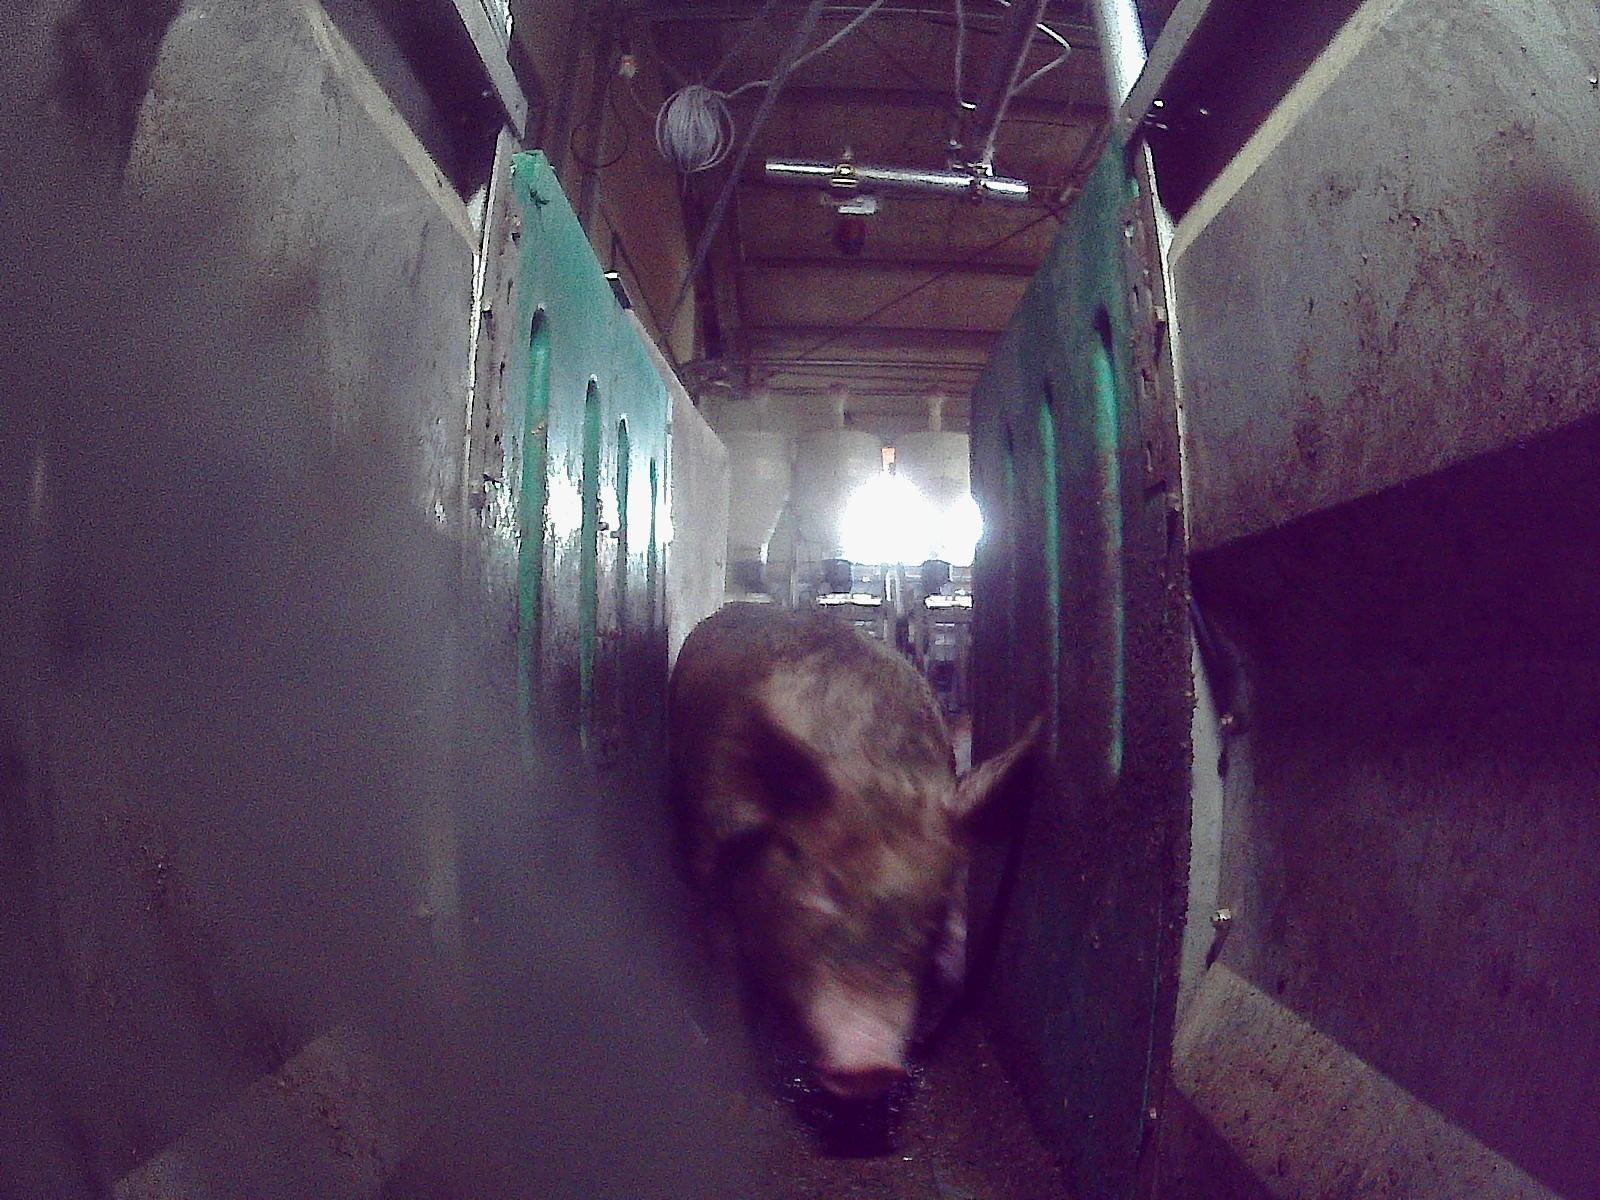Face: (752, 765, 957, 1096)
